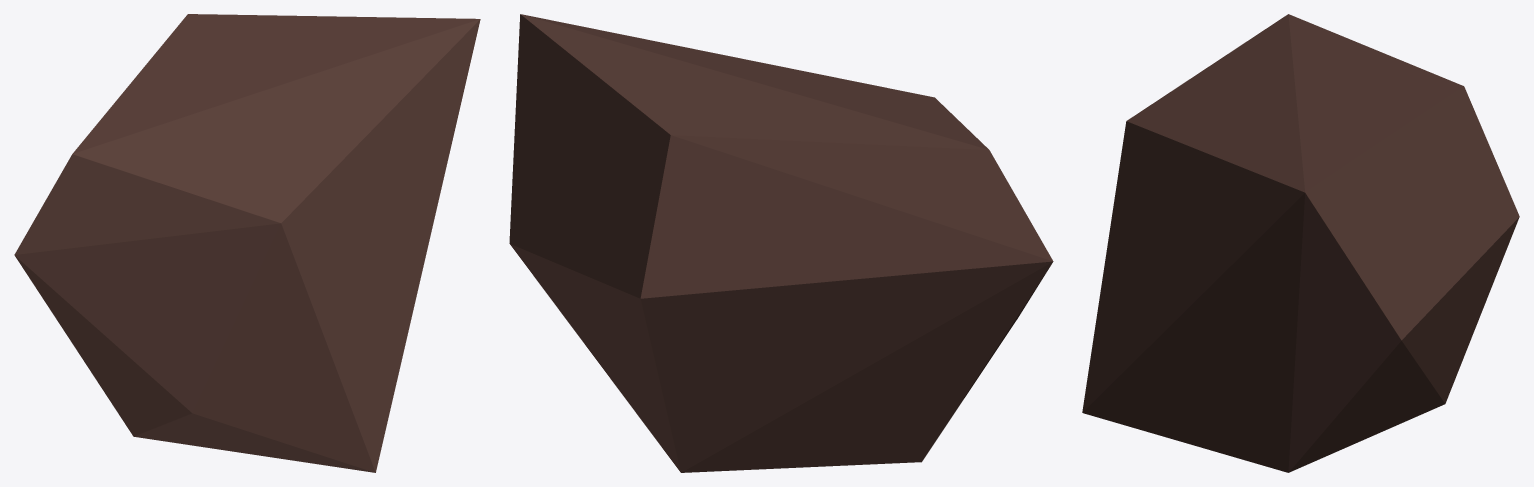
The model's file is Rock-B11.fbx.
3 views of the same model, side by side, from view 1: azimuth 30°, elevation 25°; view 2: azimuth 150°, elevation 25°; view 3: azimuth 270°, elevation 25° (orthographic). The views are drawn at different scales.
Parts seen in each view (by area): view 1: Rock-B11; view 2: Rock-B11; view 3: Rock-B11.
Part boxes in pixels (bbox=[...]): Rock-B11: bbox=[14, 14, 480, 472]; Rock-B11: bbox=[509, 14, 1053, 472]; Rock-B11: bbox=[1082, 14, 1519, 472].
Size of the model in its own units: 56.97 by 37.4 by 44.75.
